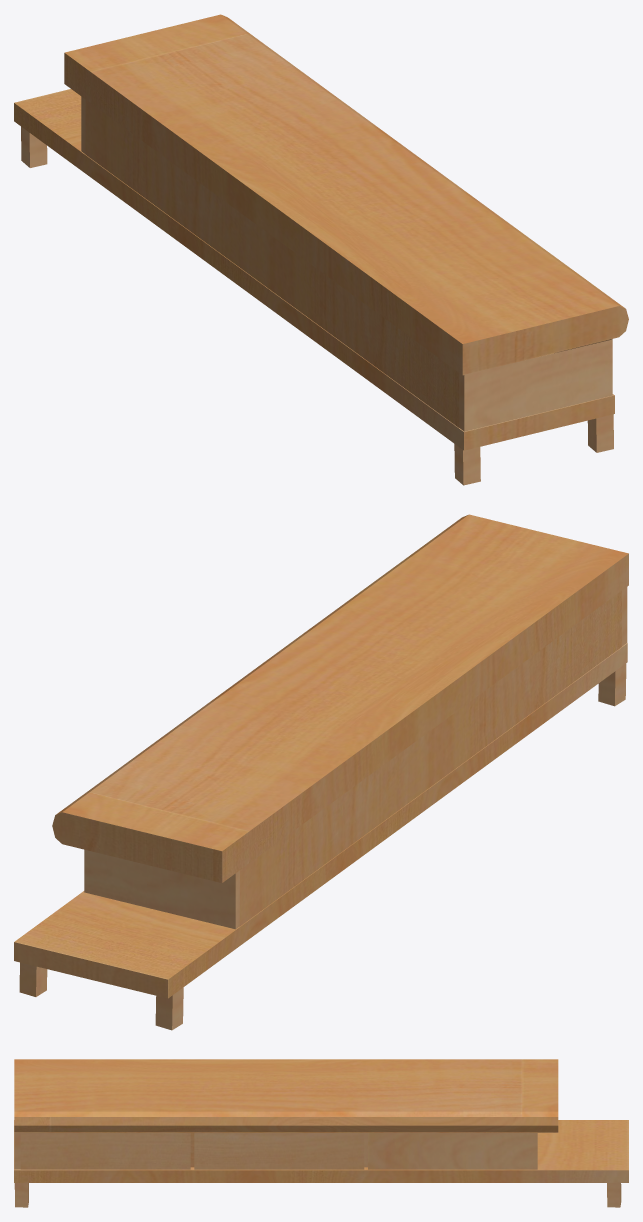
File: aws_TVCabinet_01_visual.DAE
The picture shows the model from 3 angles, top to bottom: view 1: azimuth 30°, elevation 25°; view 2: azimuth 150°, elevation 25°; view 3: azimuth 270°, elevation 25°; orthographic projection. The views are drawn at different scales.
Visible parts, largest first — view 1: aws_TVCabinet_01_visual; view 2: aws_TVCabinet_01_visual; view 3: aws_TVCabinet_01_visual.
Boxes of the visible parts, x1,y1,x2,y2 form: aws_TVCabinet_01_visual: (14,14,628,485); aws_TVCabinet_01_visual: (14,514,628,1030); aws_TVCabinet_01_visual: (14,1059,628,1207).
Bounding box in the file's own units: 59.61 × 279 × 48.84.
1 material, 1 textured.
